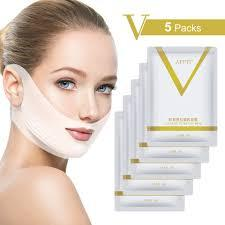Wore Mask Incorrectly: (0, 0, 119, 171)
